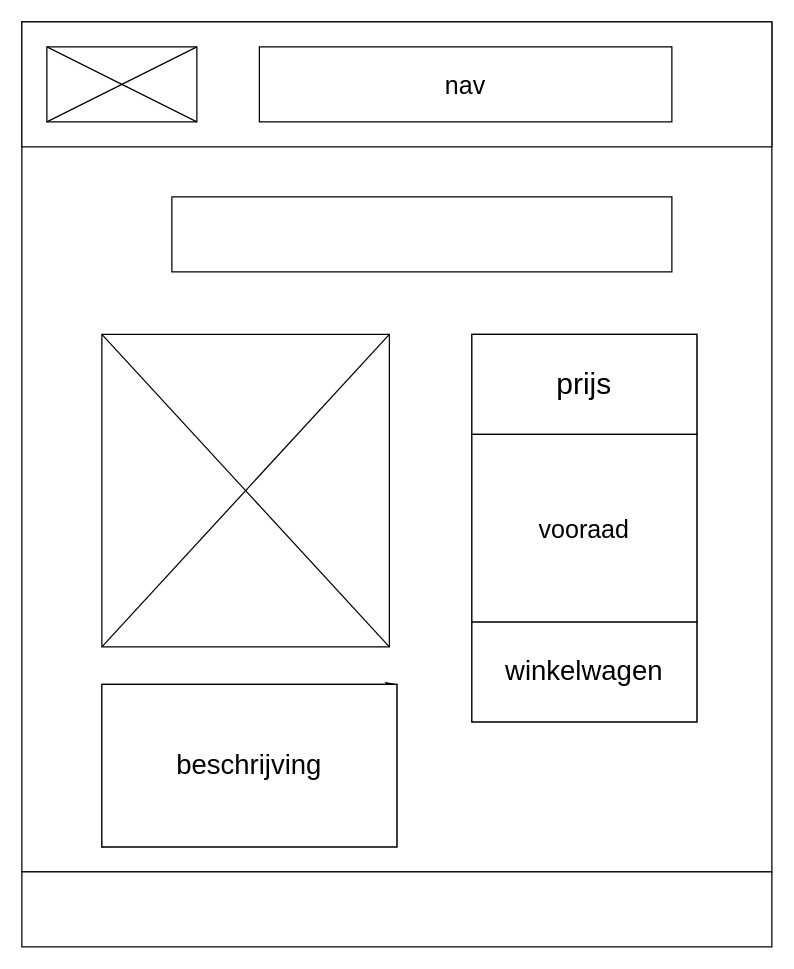
Some shapes in this 794 by 969 pixel diagram are drawn without their labels. Each missing label, with the centre of its shape:
"footer" goes at pixel 396 909.
"title" goes at pixel 421 234.
